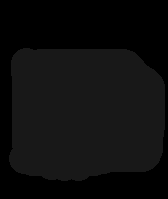fp: (1, 39, 168, 185)
